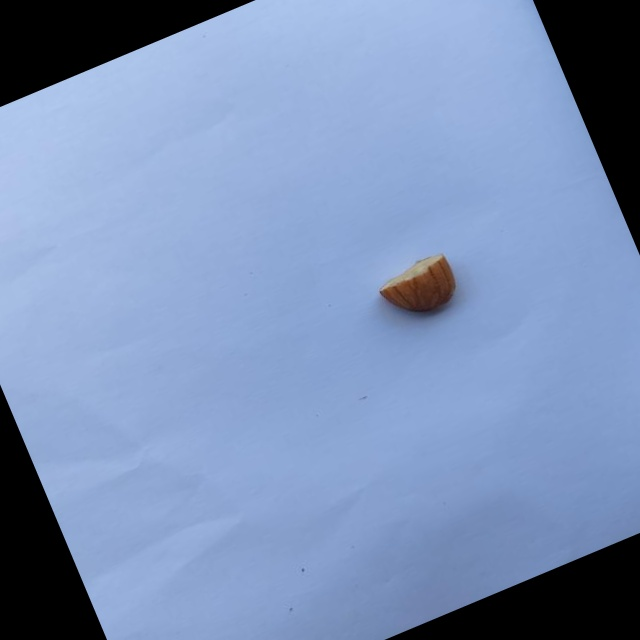grade4: (365, 244, 473, 336)
